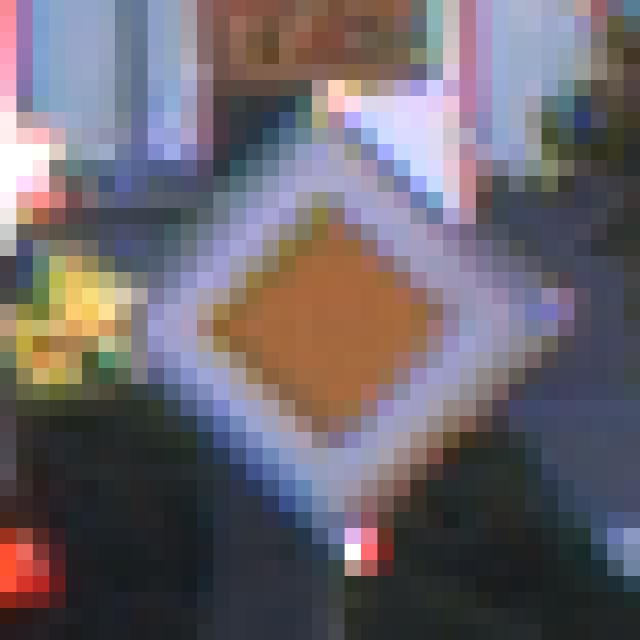Main Road: (83, 81, 559, 545)
